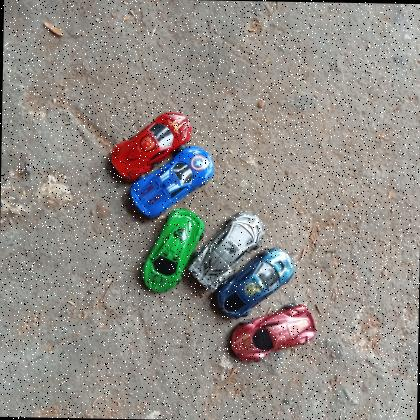Car: (188, 210, 266, 294), (128, 143, 214, 219), (108, 110, 193, 182), (214, 246, 296, 320), (140, 206, 206, 296), (229, 299, 318, 364)
